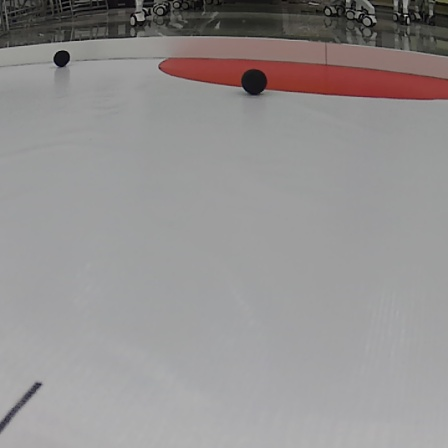black: (240, 68, 270, 94), (47, 51, 77, 68)
red_base: (158, 46, 448, 104)
